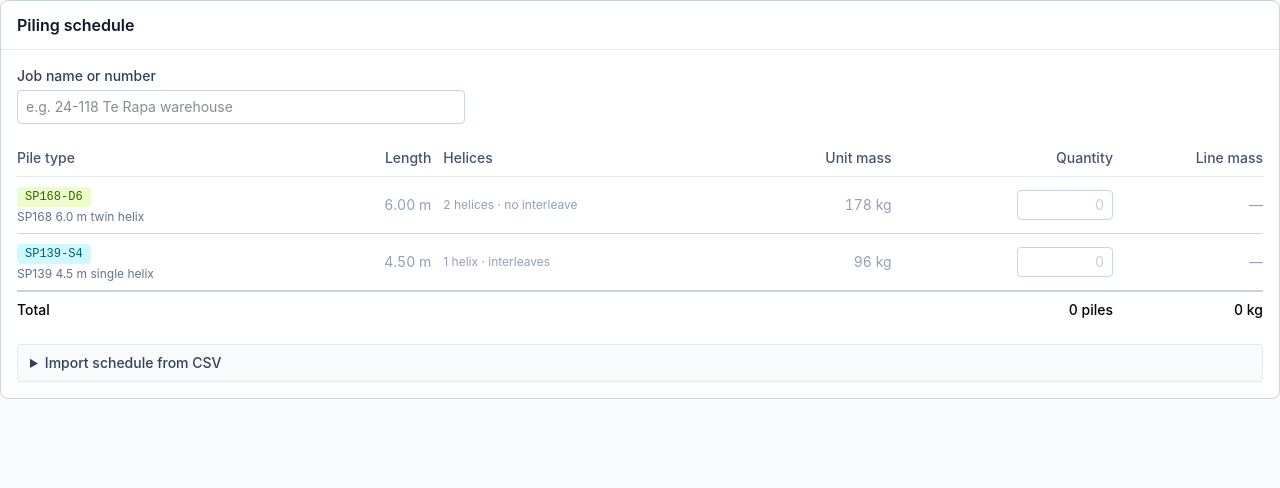
Test case: quantities › totals piles and mass across lines
Type "10" into the field named "Quantity of SP168-D6". click: (1065, 205)
box: 1017,190 -> 1113,220
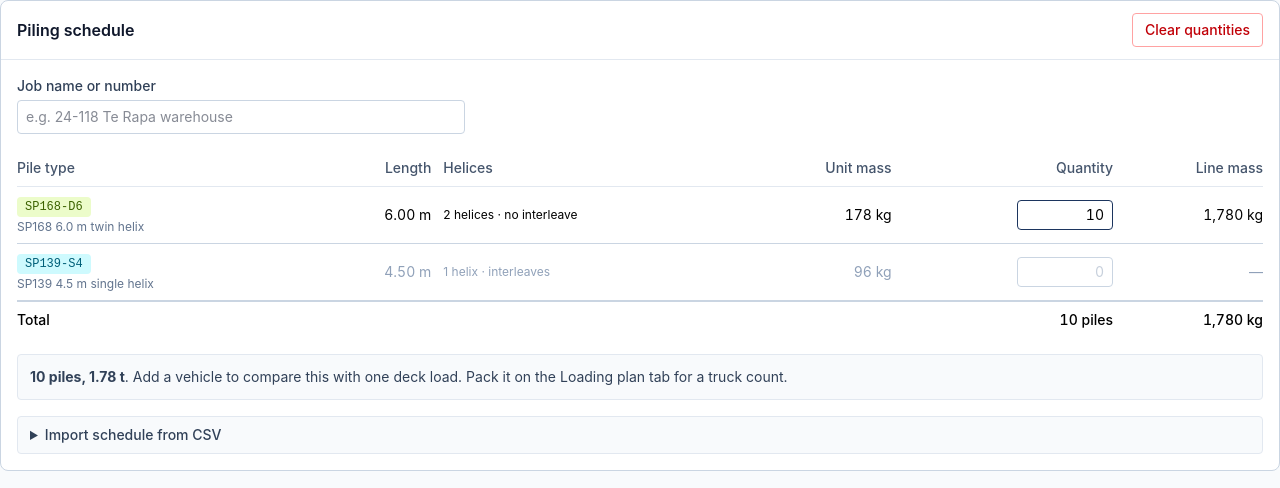
Type "5" into the field named "Quantity of SP139-S4". click: (1065, 272)
box: 1017,257 -> 1113,287
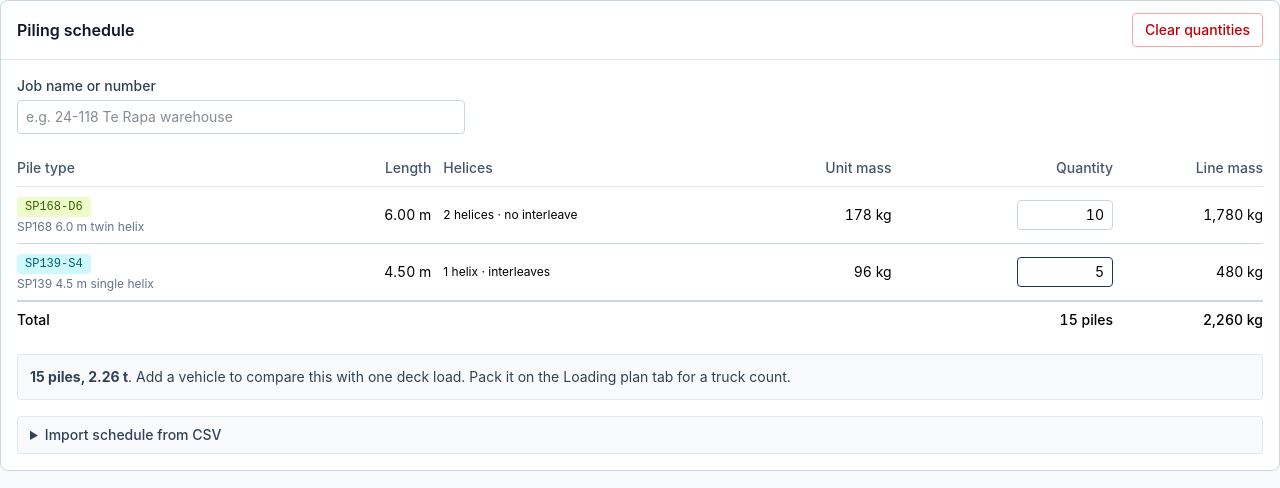
Expected: the text "15 piles" is shown, 904,301 -> 1125,338
Expected: the text "2,260 kg" is shown, 1125,301 -> 1263,338
